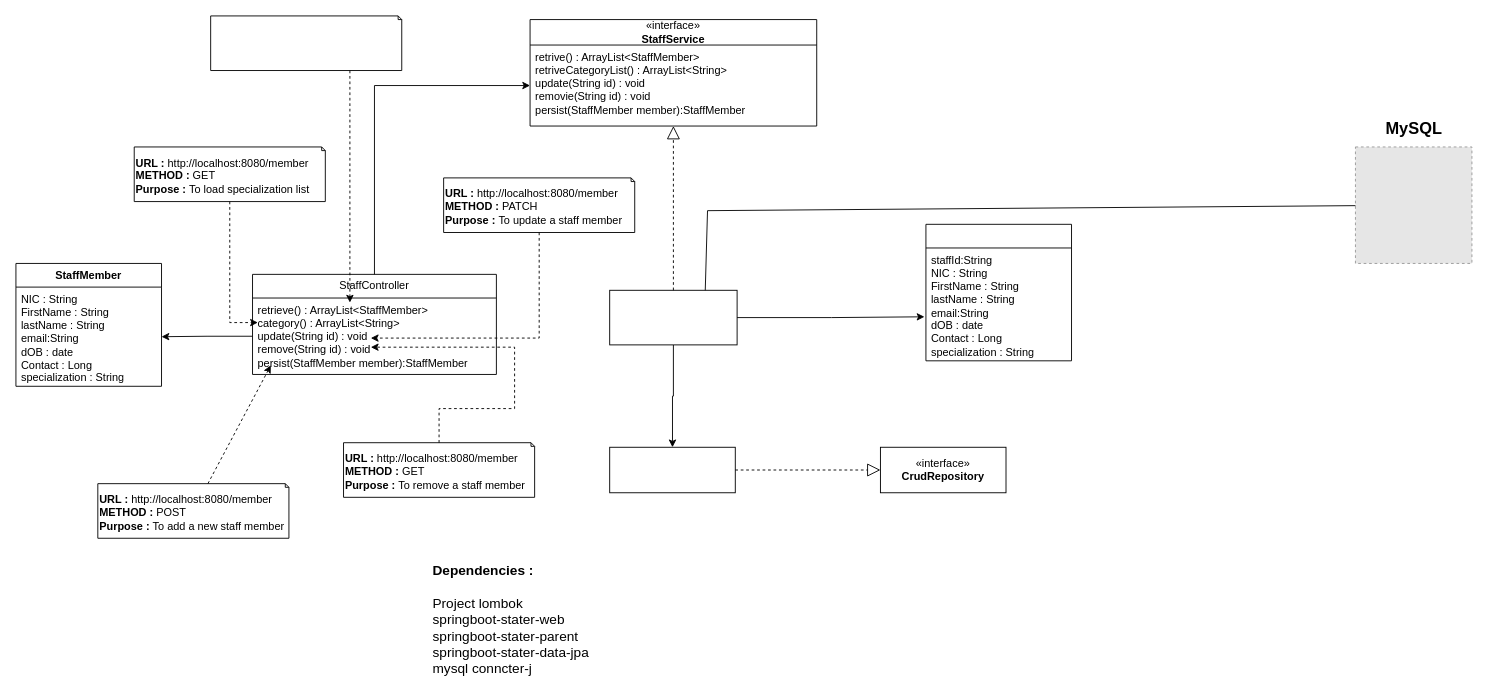
Image size: 1488x699. Some labels were removed from this diagram. Grey dashed boxes stand in for pictures. Here are the shapes that lost their labels. From the top down, the box of each, then its label:
(210, 15, 402, 71): URL : http://localhost:8080/members METHOD : GET Purpose : To load staff list
(925, 223, 1072, 361): StaffMemberEntity
(609, 289, 737, 345): StaffMemberImpl
(609, 446, 735, 493): «interface» StudentRepository
